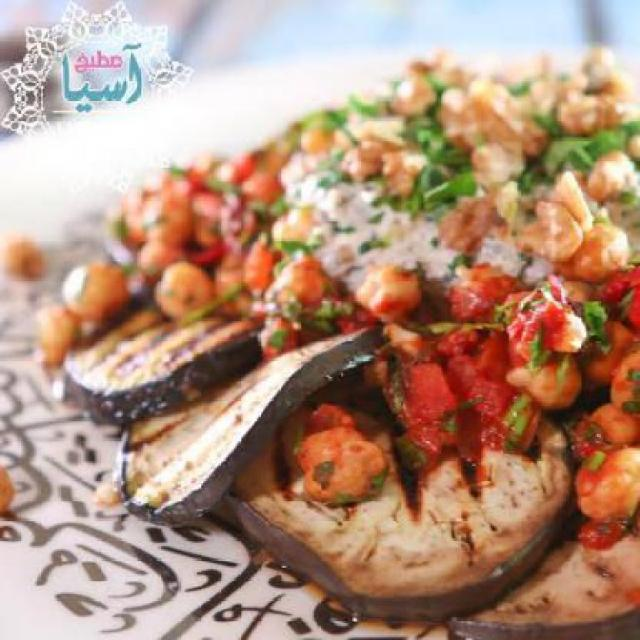eggplant: (62, 291, 640, 637)
hummus: (4, 41, 638, 528)
